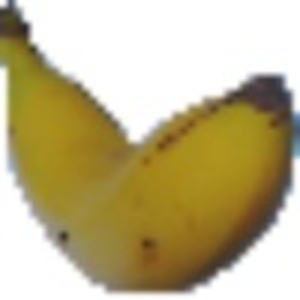banana: (3, 2, 297, 289)
